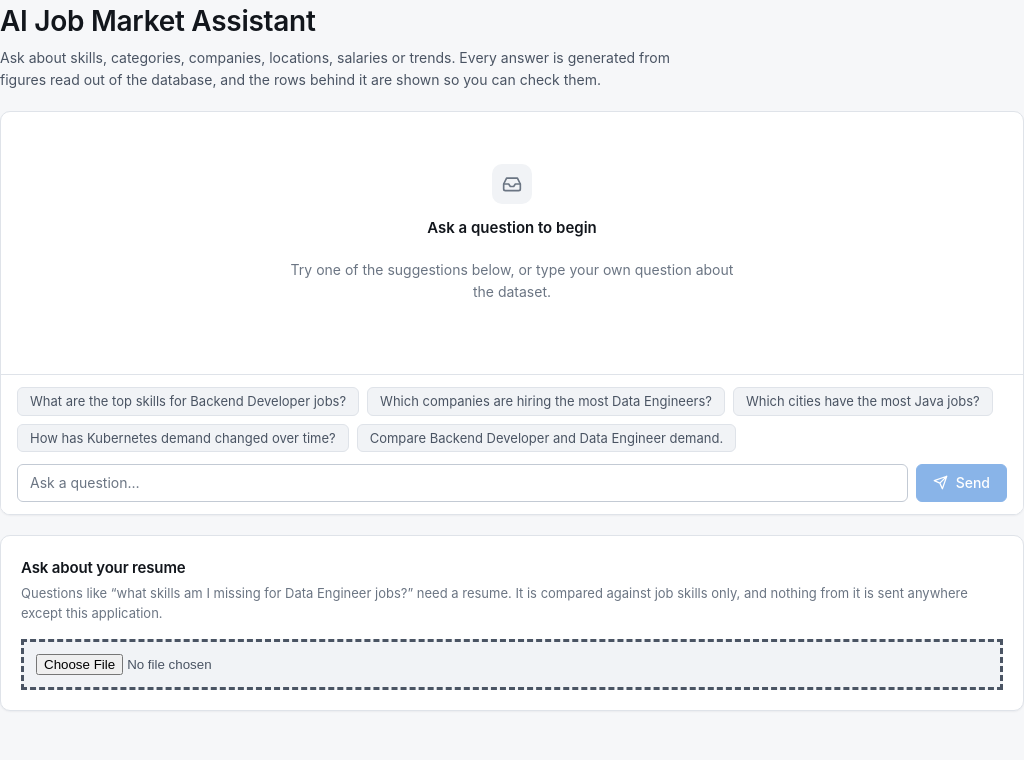
Test: AiAssistant › shows the question back in the conversation
This screenshot has width=1024, height=760.
Type "top skills" into the field named "Your question" at (462,483), box [17, 464, 908, 502]
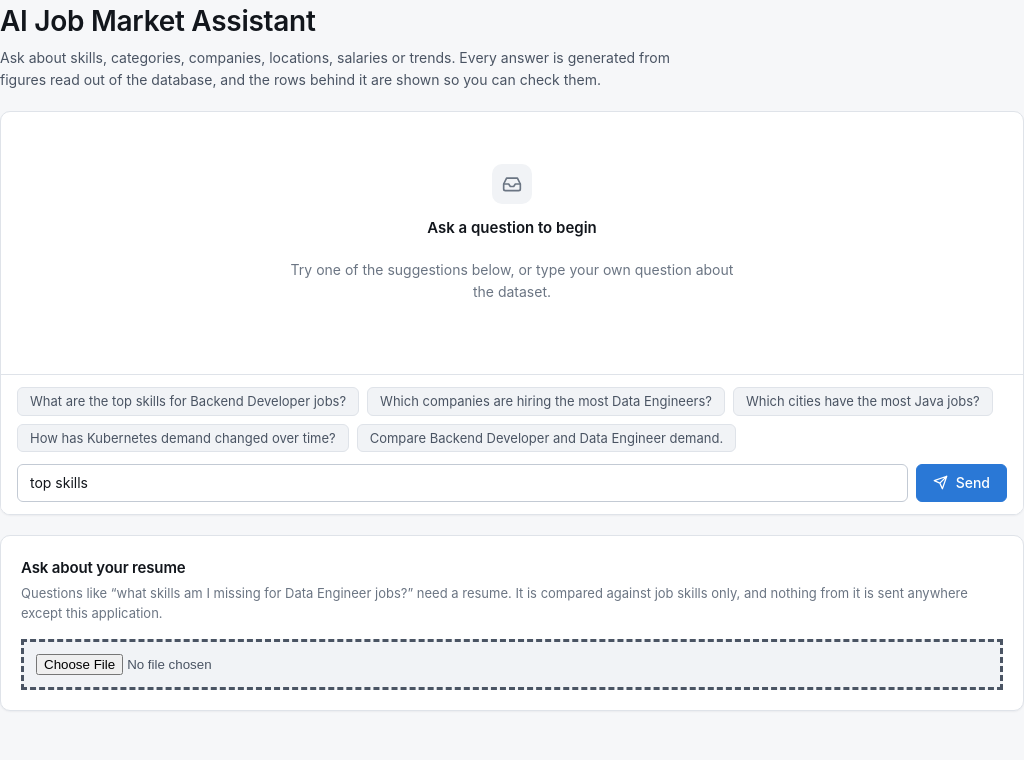
Click the button "Send" at (961,483), box [916, 464, 1007, 502]
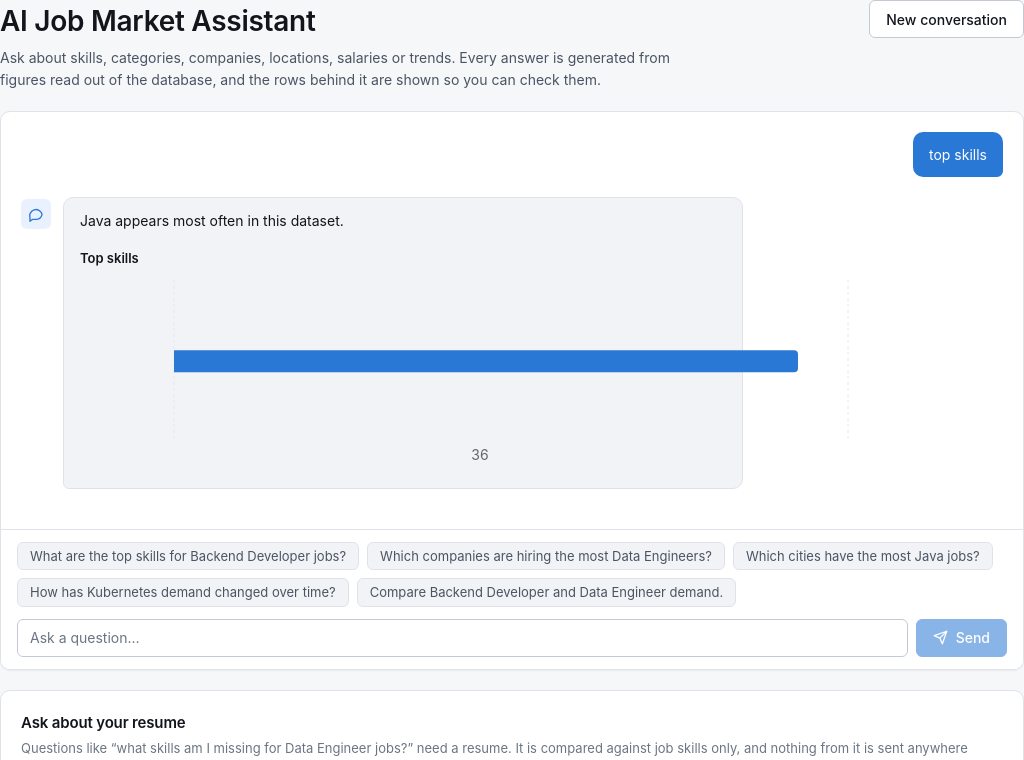
Result: the text "Java appears most often in this dataset." is shown at [80, 212, 344, 230]
Result: the text "top skills" is shown at [913, 132, 1003, 178]
